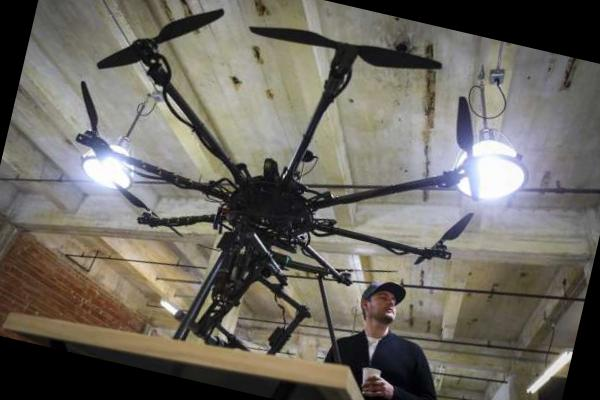drone: (24, 0, 511, 312)
